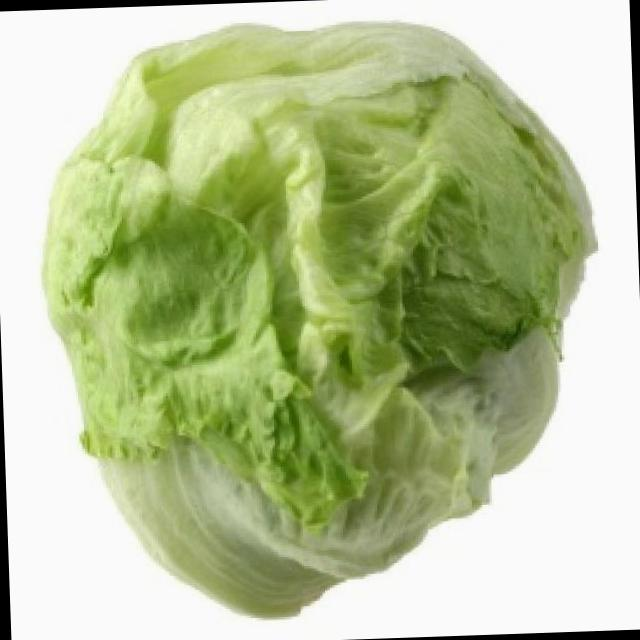Lettuce-Ready-to-Harvest: (45, 23, 595, 615)
